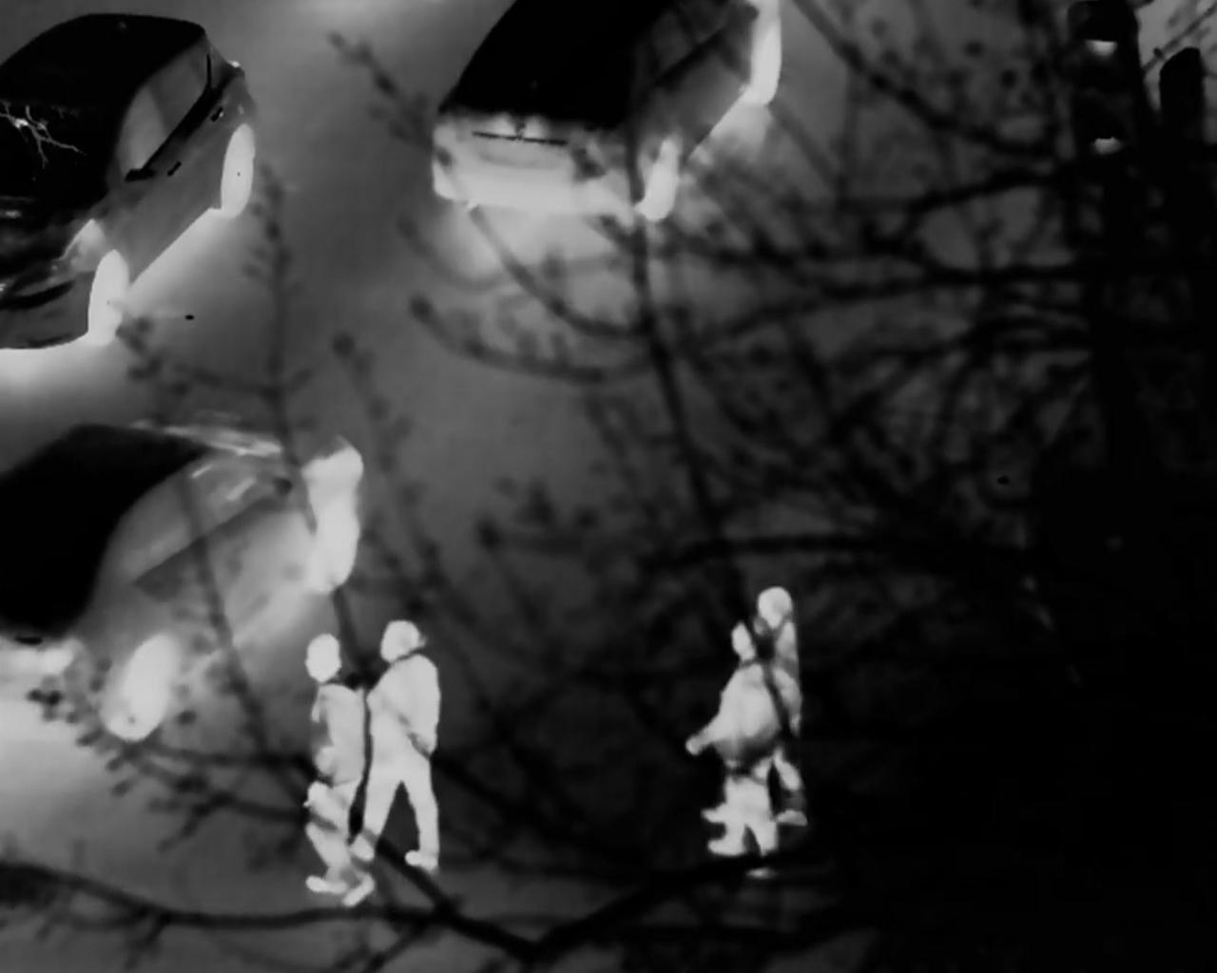person: (342, 612, 442, 870), (683, 623, 781, 859), (293, 634, 369, 913), (742, 579, 810, 803)
